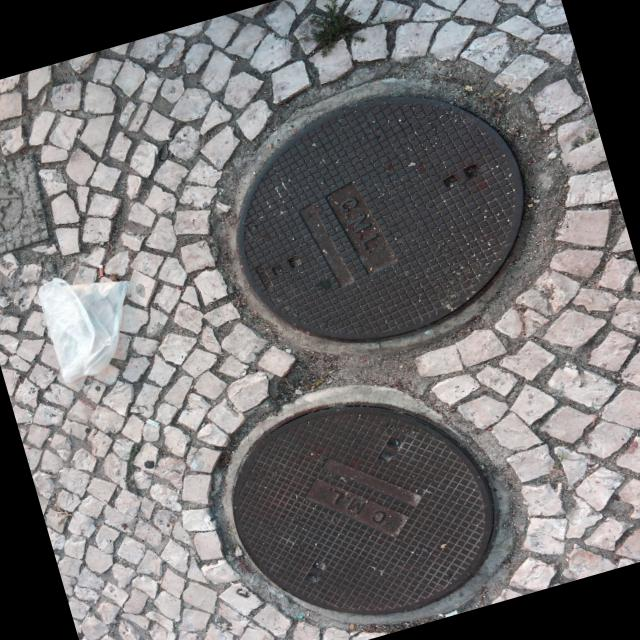less trash: (38, 277, 129, 383)
